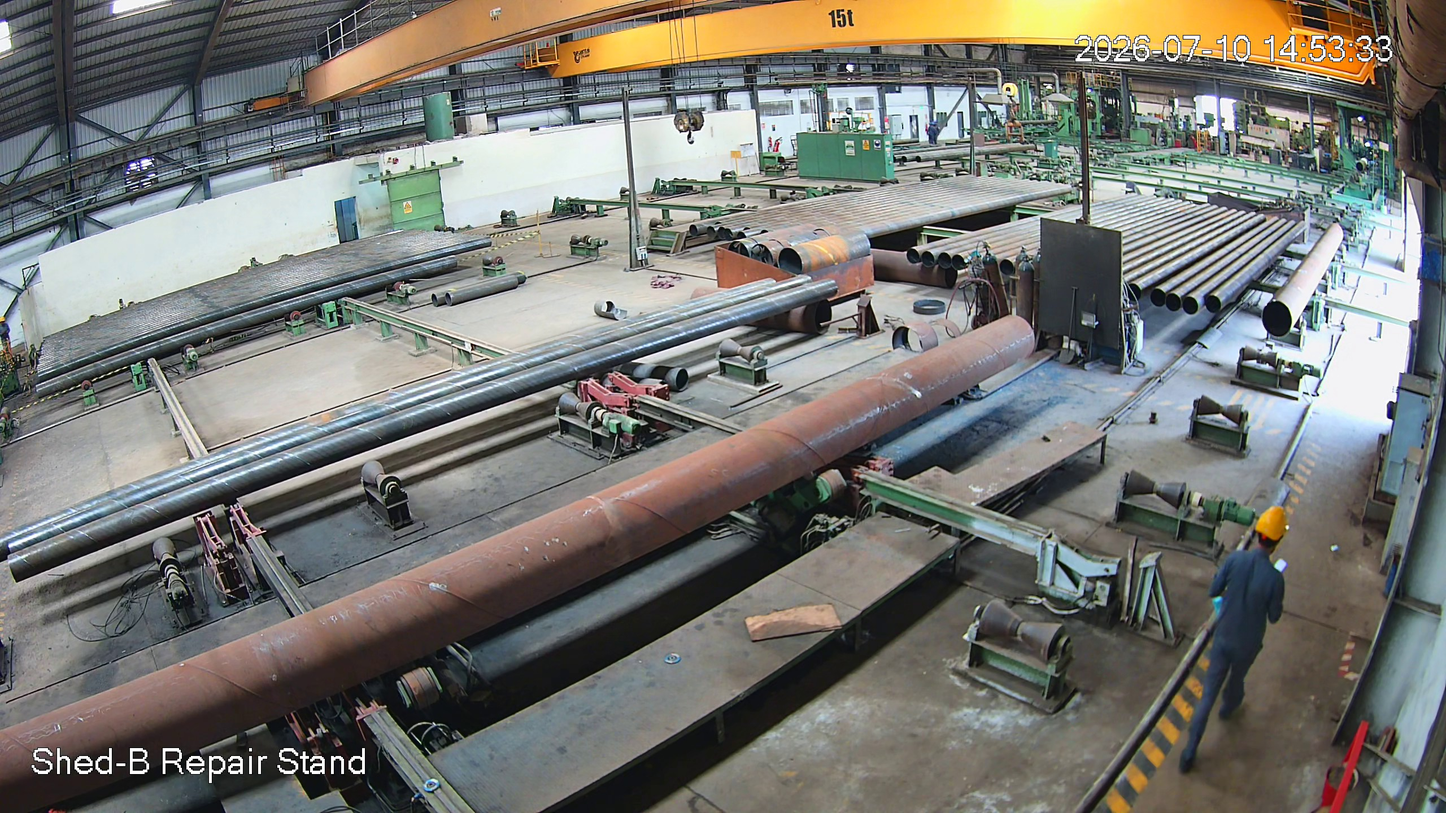Helmet: (1246, 493, 1312, 583)
Person: (1172, 496, 1318, 789)
